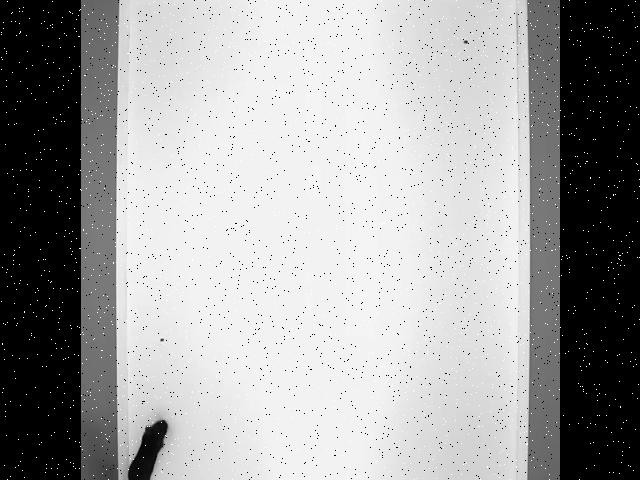Tikus: (111, 418, 169, 480)
